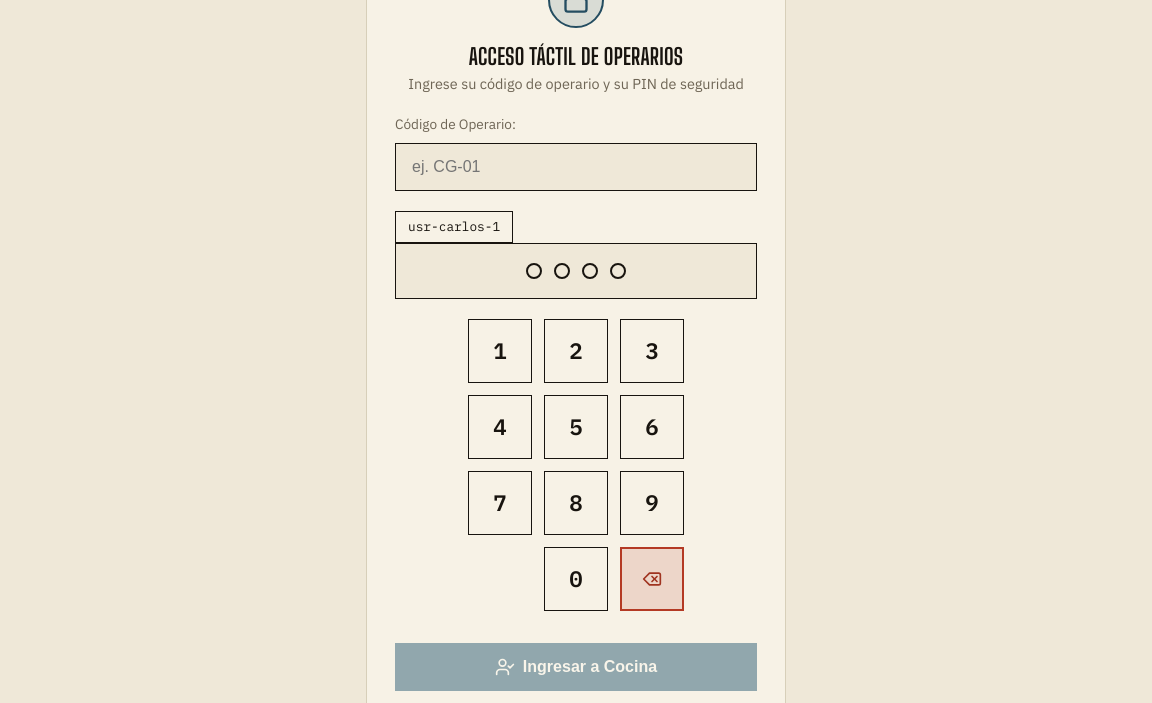
Test: TK-113-FE: chips de operario reciente (device-local) › un tap en un chip rellena el campo de ID sin loguear
What coordinates should you click on to do the following:
click the button "usr-carlos-1"
I would click on:
 (454, 227)
Its box is [395,211,513,243].
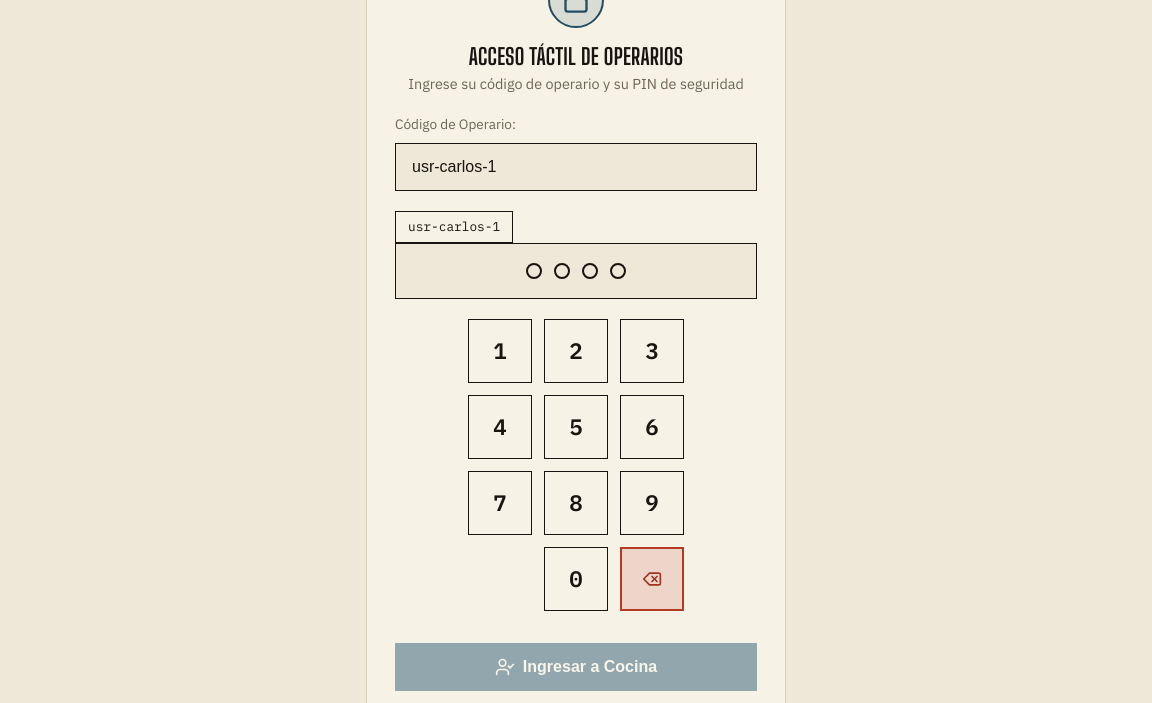
expect the button "Ingresar a Cocina" is disabled: met, box [395,643,757,691]
expect the field labelled "Código de Operario:" holds "usr-carlos-1": met, box [395,143,757,191]
